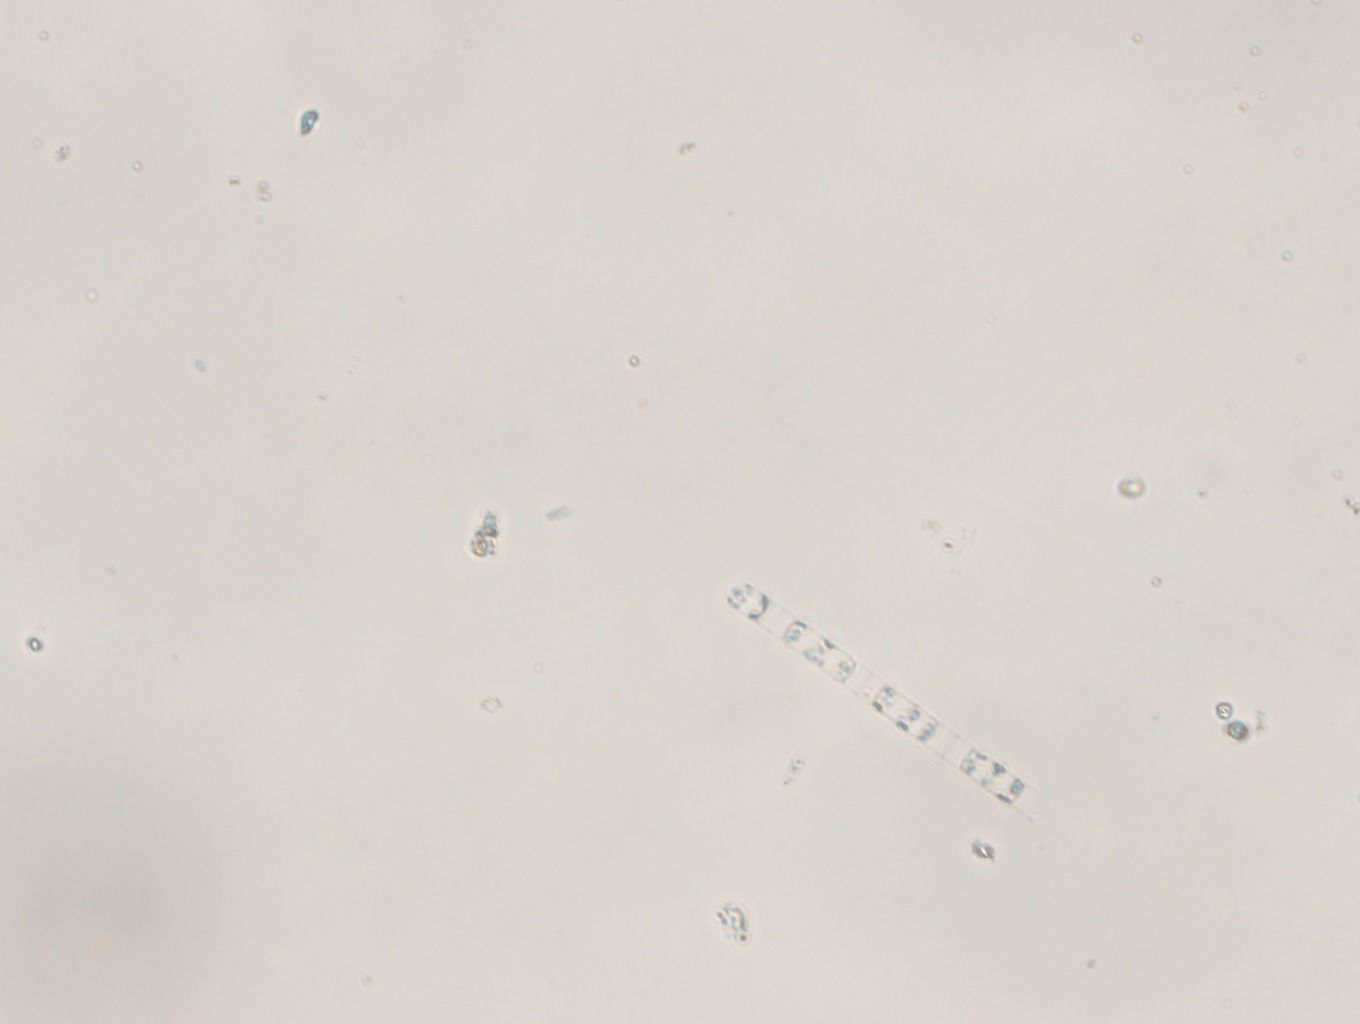skeletonema: (708, 567, 1068, 828)
